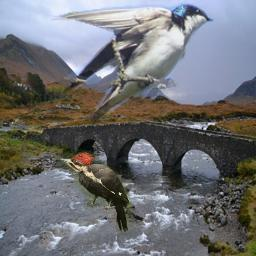Swallow: (51, 1, 214, 126)
Woodpecker: (56, 149, 135, 235)
